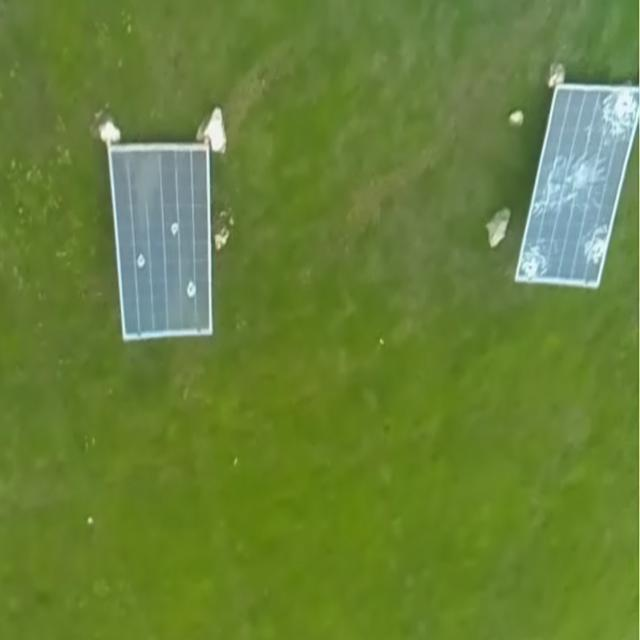Bird-drop: (185, 278, 198, 302), (168, 219, 180, 239), (135, 252, 147, 269)
Physical-damage: (541, 157, 602, 205), (599, 91, 634, 142), (523, 240, 558, 276), (579, 228, 606, 269)
